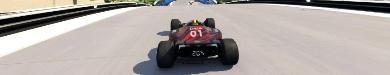Car: (155, 17, 239, 67)
